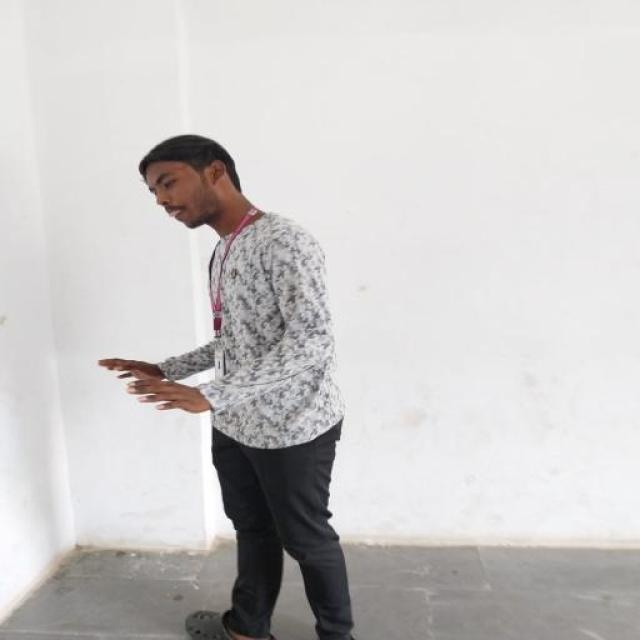ID_card: (207, 269, 241, 375)
